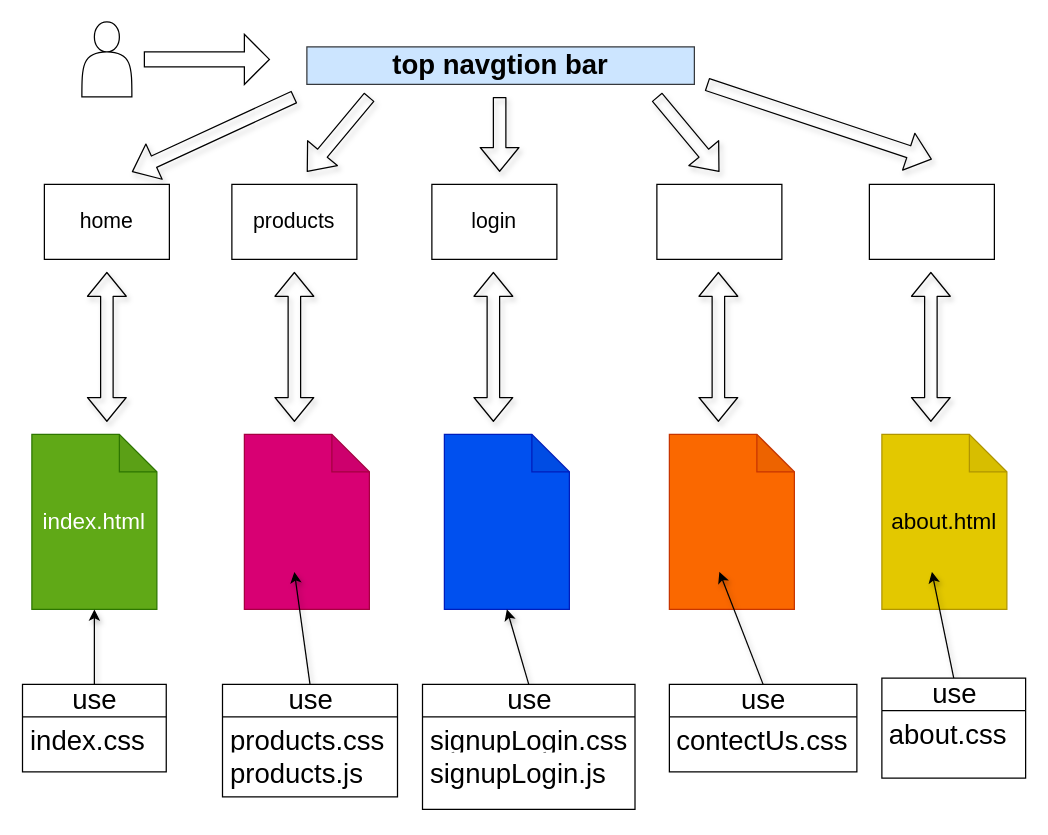
Image size: 1048x835. Some labels were removed from this diagram. The centre of each missing label's shape, as x and y in pixels:
about: the point at 931,221
contect: the point at 719,221
contectUs.html: the point at 731,521
products.html: the point at 306,521
signupLogin.html: the point at 506,521
